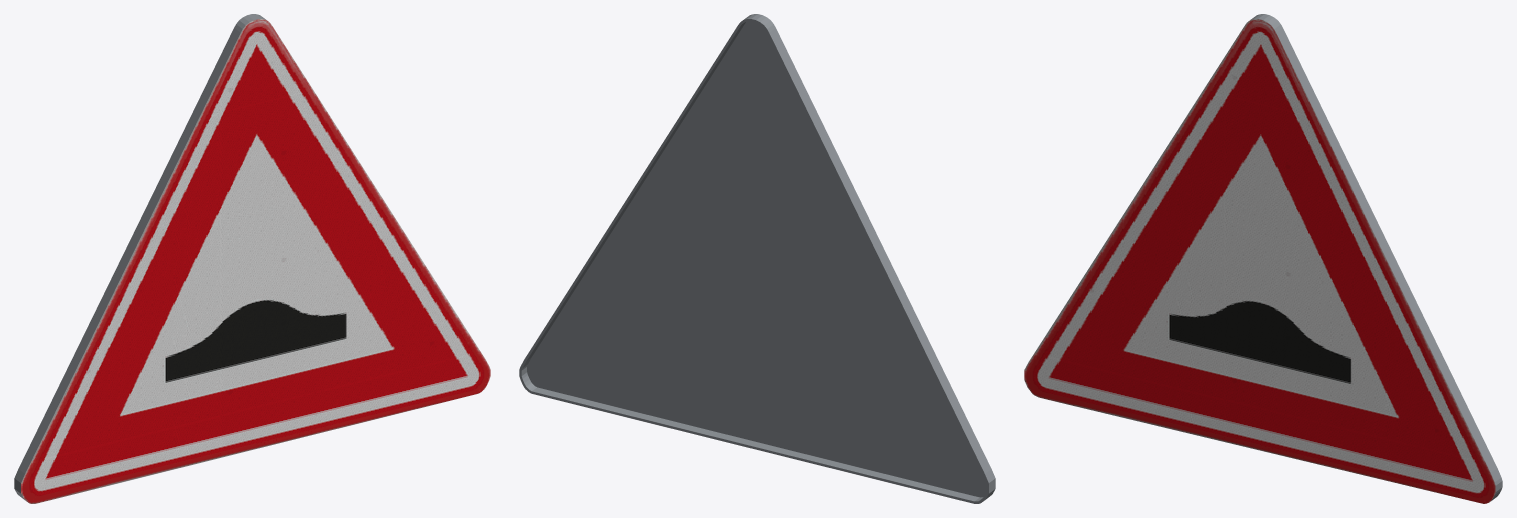
The picture shows the model from 3 angles, left to right: view 1: azimuth 30°, elevation 25°; view 2: azimuth 150°, elevation 25°; view 3: azimuth 330°, elevation 25°; orthographic projection.
Visible parts, largest first — view 1: cat_d0acbc8d857d1bf3; view 2: cat_d0acbc8d857d1bf3; view 3: cat_d0acbc8d857d1bf3.
Boxes of the visible parts, <box> form: cat_d0acbc8d857d1bf3: <box>14,14,490,503</box>; cat_d0acbc8d857d1bf3: <box>519,14,995,503</box>; cat_d0acbc8d857d1bf3: <box>1024,14,1502,503</box>.
Bounding box in the file's own units: 0.6 × 0.015 × 0.5256.
2 materials, 1 textured.
